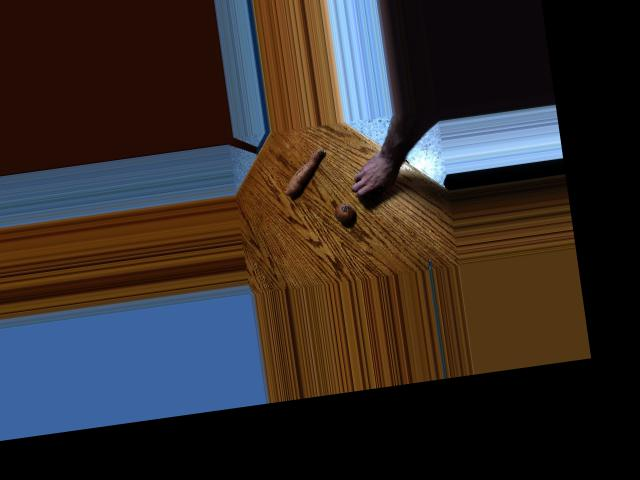onion: (358, 178, 386, 203)
